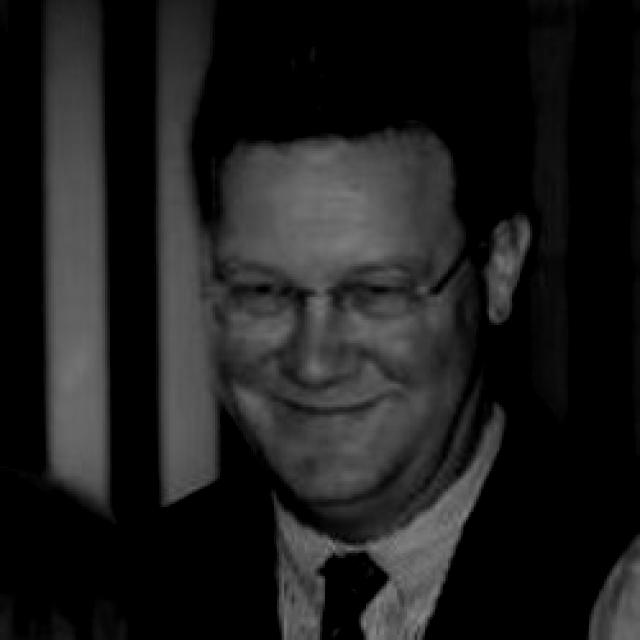real: (216, 135, 491, 514), (233, 258, 433, 316)
